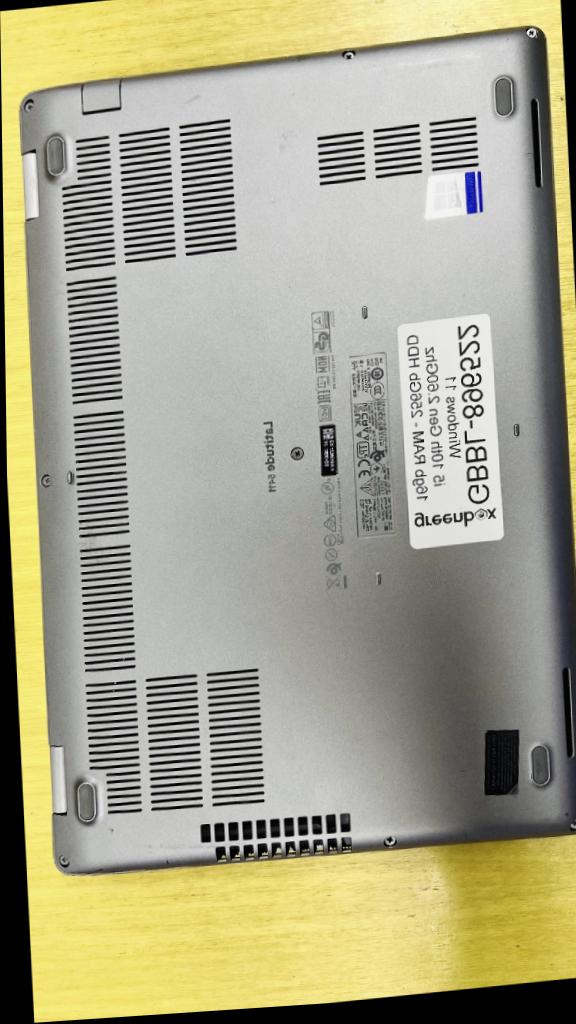stain: (72, 510, 100, 564), (138, 841, 210, 856), (274, 133, 288, 155), (183, 97, 199, 106), (296, 57, 310, 66), (104, 827, 110, 836)
